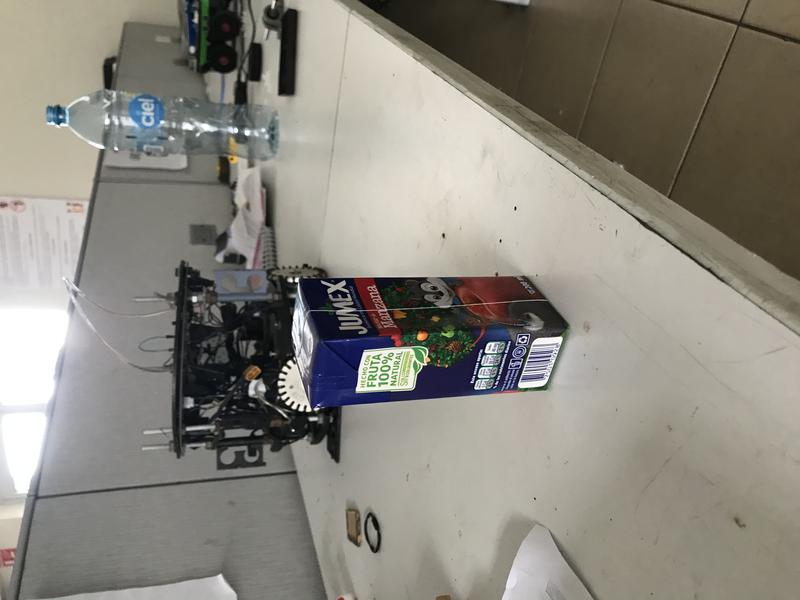jumex_cajita: (290, 274, 569, 410)
